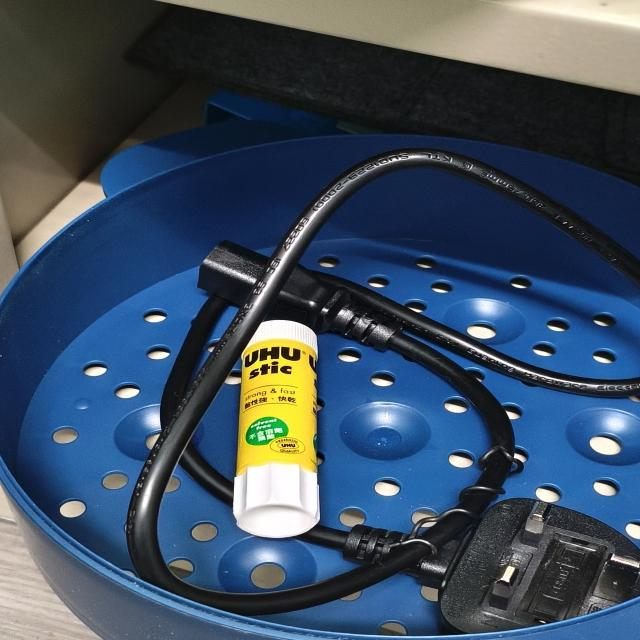glue: (232, 320, 320, 538)
